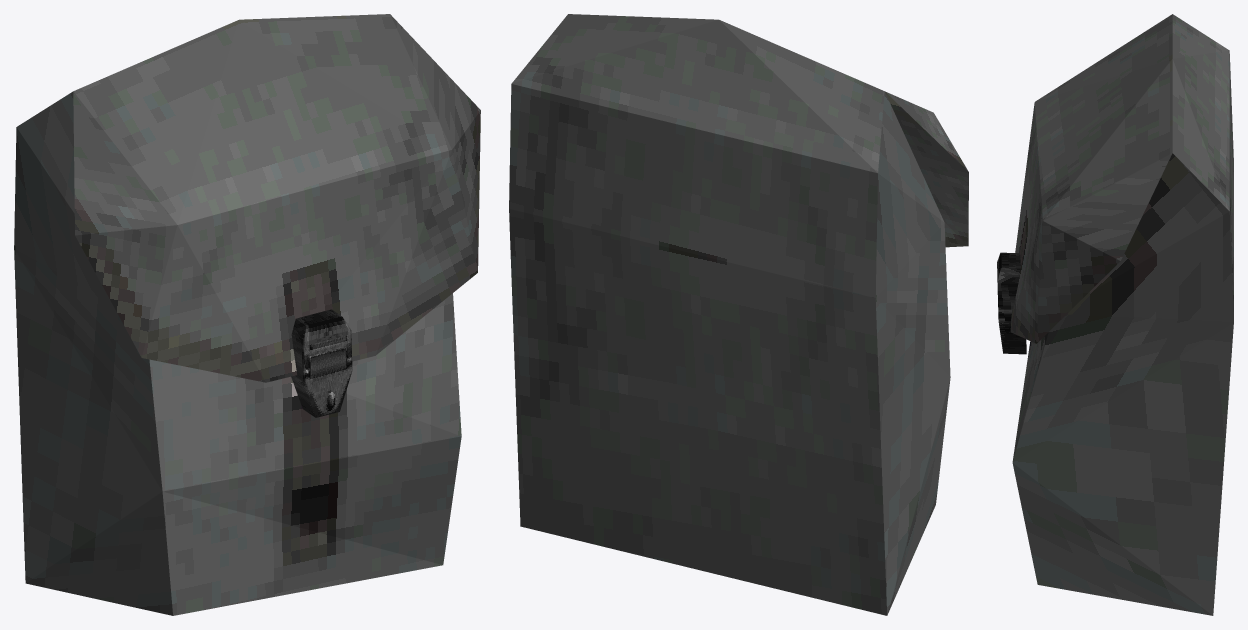
Rendered from recovered_gear_satchel_3e3a968958fb.glb.
The picture shows the model from 3 angles, left to right: view 1: azimuth 30°, elevation 25°; view 2: azimuth 150°, elevation 25°; view 3: azimuth 270°, elevation 25°; orthographic projection. The views are drawn at different scales.
Parts seen in each view (by area): view 1: Satchel; view 2: Satchel; view 3: Satchel.
Part boxes in pixels (box(x1,y1,x2,y2)): Satchel: box(14, 14, 480, 615); Satchel: box(509, 14, 968, 615); Satchel: box(997, 14, 1233, 615).
Bounding box in the file's own units: 0.3388 × 0.4114 × 0.1841.
2 materials, 2 textured.
